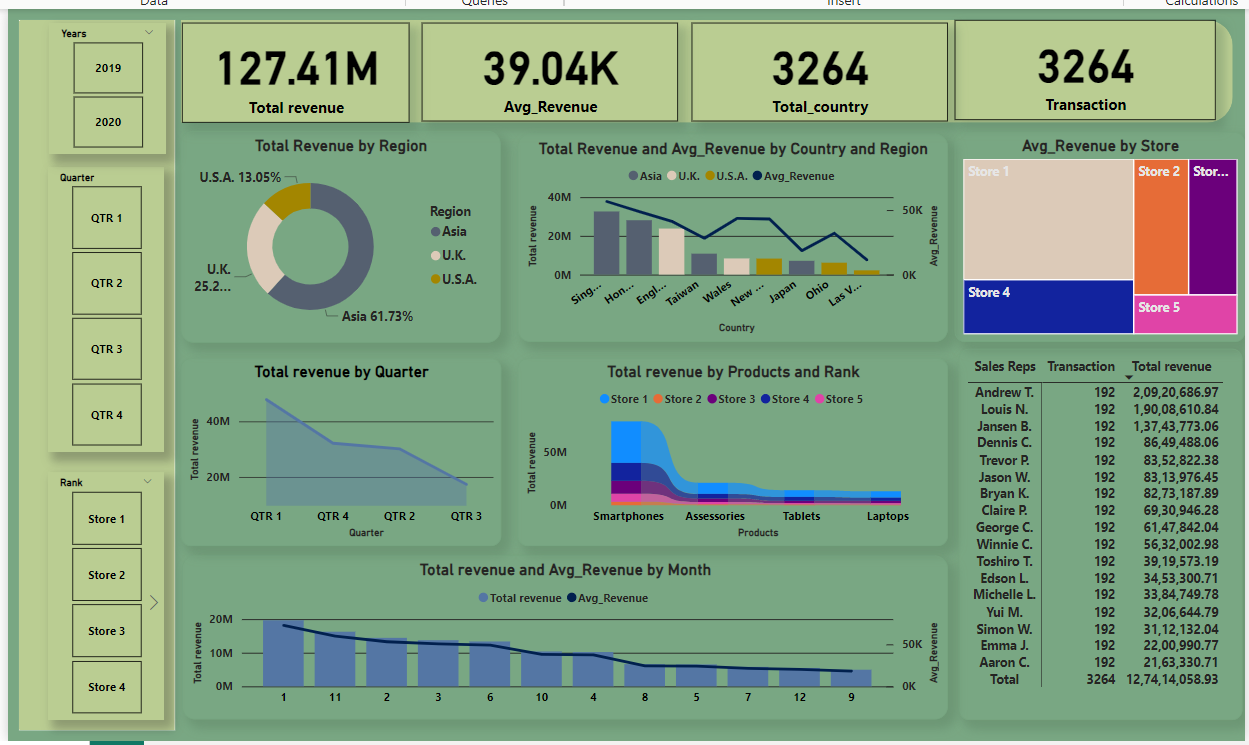

The dashboard page shown, as its layout file describes it:
{"tool":"powerbi","page":{"name":"Financial  Report","canvas":[1318,780],"ordinal":0},"visuals":[{"type":"shape","box":[12.2,12.2,166.1,757.1],"z":0},{"type":"slicer","fields":{"Values":["Sheet1.Years"]},"box":[43.7,14,124.1,139.9],"z":1000},{"type":"shape","box":[183.9,11.7,1121.1,109.5],"z":2000},{"type":"card","fields":{"Values":["Data.Total revenue"]},"box":[185.4,14.6,242.3,106.6],"z":3000},{"type":"card","fields":{"Values":["Data.Avg_Revenue"]},"box":[440.6,14,272.8,104.9],"z":4000},{"type":"card","fields":{"Values":["Data.Total_country"]},"box":[729.1,14,272.8,104.9],"z":5000},{"type":"card","fields":{"Values":["Data.Transaction"]},"box":[1008.8,12.2,278,106.7],"z":6000},{"type":"donutChart","title":"Total Revenue by Region","fields":{"Y":["Data.Total revenue"],"Category":["Sheet1.Region"]},"box":[183.7,130.2,340.6,225.4],"z":7000},{"type":"lineStackedColumnComboChart","title":"Total Revenue and Avg_Revenue by Country and Region","fields":{"Category":["Sheet1.Country"],"Y":["Data.Total revenue"],"Y2":["Data.Avg_Revenue"],"Series":["Sheet1.Region"]},"box":[543.1,132.8,458.4,221.9],"z":8000},{"type":"treemap","title":"Avg_Revenue by Store","fields":{"Values":["Data.Avg_Revenue"],"Group":["Sheet1.Rank"]},"box":[1008.7,131.4,309.5,223.4],"z":9000},{"type":"areaChart","fields":{"Y":["Data.Total revenue"],"Category":["Sheet1.Quarter"]},"box":[183.9,372.3,341.6,200],"z":10000},{"type":"ribbonChart","fields":{"Category":["Sheet1.Products"],"Y":["Data.Total revenue"],"Series":["Sheet1.Rank"]},"box":[543.1,372.3,458.4,200],"z":11000},{"type":"pivotTable","fields":{"Rows":["Sheet1.Sales Reps"],"Values":["Data.Transaction","Data.Total revenue"]},"box":[1013.1,362,302.2,395.6],"z":12000},{"type":"lineClusteredColumnComboChart","fields":{"Y":["Data.Total revenue"],"Category":["Sheet1.Month"],"Y2":["Data.Avg_Revenue"]},"box":[184.9,582.5,815.8,174.6],"z":13000},{"type":"slicer","fields":{"Values":["Sheet1.Quarter"]},"box":[42,167.8,124.1,304.2],"z":13001},{"type":"slicer","fields":{"Values":["Sheet1.Rank"]},"box":[42,493.1,124.1,264],"z":13002}]}

Visuals, with their boxes on the page's 1318x780 design canvas (x1, y1, x2, y2). These are canvas units, not pixel positions in the 1249x745 screenshot, which may show the page scaled, cropped or inside an application window:
shape: detection(12, 12, 178, 769)
slicer - Sheet1.Years: detection(44, 14, 168, 154)
shape: detection(184, 12, 1305, 121)
card - Data.Total revenue: detection(185, 15, 428, 121)
card - Data.Avg_Revenue: detection(441, 14, 713, 119)
card - Data.Total_country: detection(729, 14, 1002, 119)
card - Data.Transaction: detection(1009, 12, 1287, 119)
"Total Revenue by Region" donutChart: detection(184, 130, 524, 356)
"Total Revenue and Avg_Revenue by Country and Region" lineStackedColumnComboChart: detection(543, 133, 1002, 355)
"Avg_Revenue by Store" treemap: detection(1009, 131, 1318, 355)
areaChart - Data.Total revenue x Sheet1.Quarter: detection(184, 372, 526, 572)
ribbonChart - Sheet1.Products x Data.Total revenue: detection(543, 372, 1002, 572)
pivotTable - Sheet1.Sales Reps x Data.Transaction: detection(1013, 362, 1315, 758)
lineClusteredColumnComboChart - Data.Total revenue x Sheet1.Month: detection(185, 582, 1001, 757)
slicer - Sheet1.Quarter: detection(42, 168, 166, 472)
slicer - Sheet1.Rank: detection(42, 493, 166, 757)
